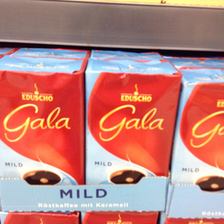coffee: (85, 58, 181, 183), (1, 54, 84, 184)
